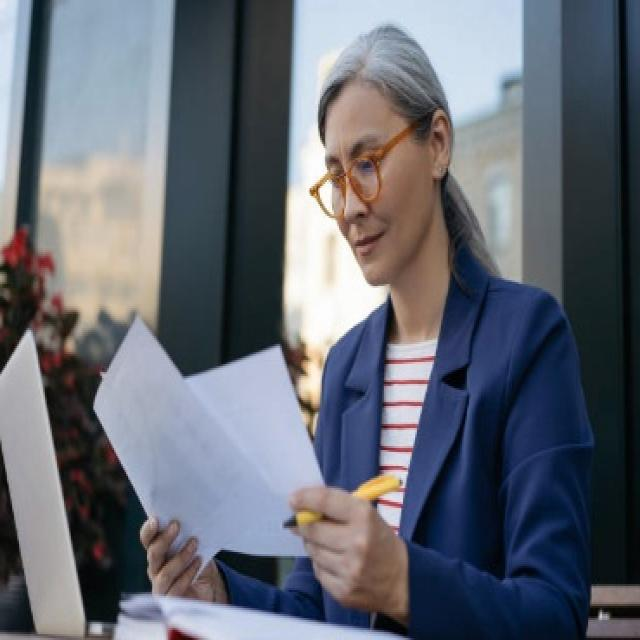adult: (252, 17, 599, 639)
